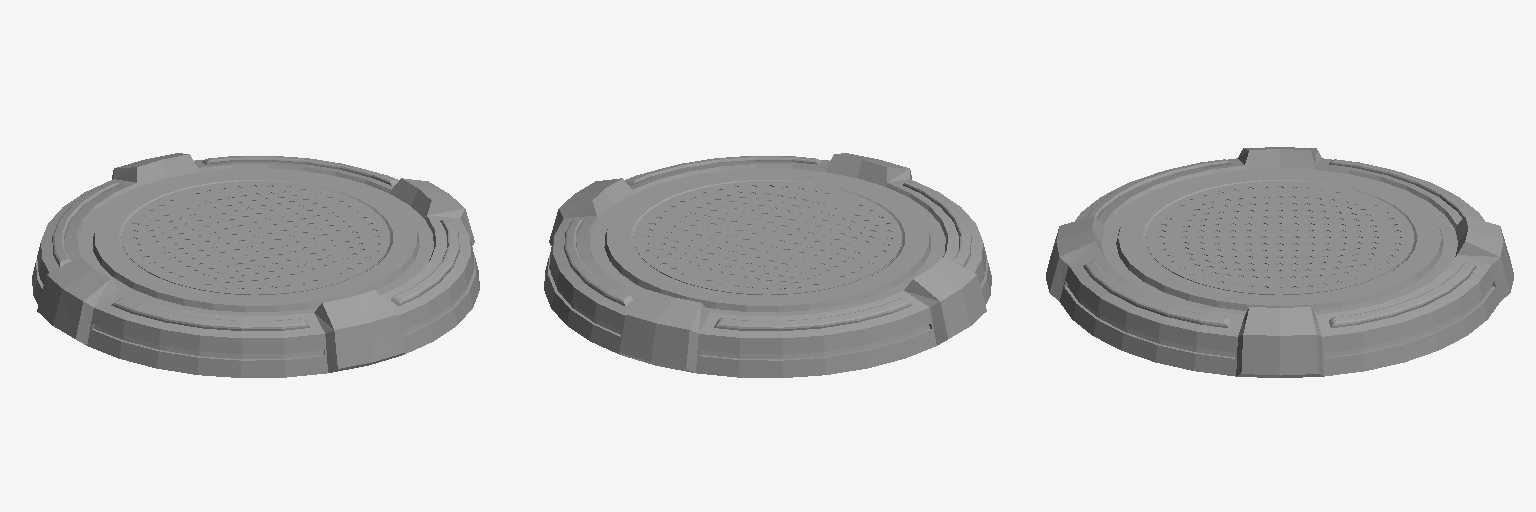
File: tech_pedestal.obj
The picture shows the model from 3 angles: view 1: azimuth 30°, elevation 25°; view 2: azimuth 150°, elevation 25°; view 3: azimuth 270°, elevation 25°; orthographic projection.
Visible parts, largest first — view 1: tech_pedestal_Circle.001; view 2: tech_pedestal_Circle.001; view 3: tech_pedestal_Circle.001.
Boxes of the visible parts, <box> form: tech_pedestal_Circle.001: <box>32,153,479,377</box>; tech_pedestal_Circle.001: <box>544,153,991,377</box>; tech_pedestal_Circle.001: <box>1046,147,1513,377</box>.
Bounding box in the file's own units: 24.79 × 3.21 × 24.79.